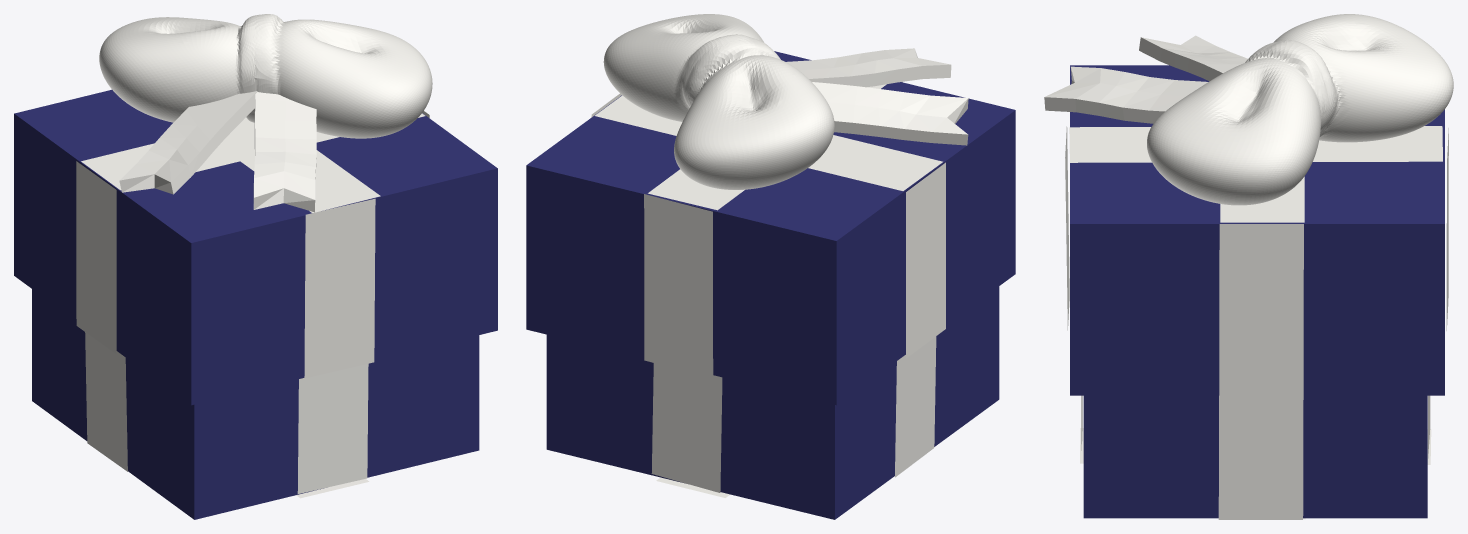
The model's file is decoration_7_2.glb.
The picture shows the model from 3 angles, left to right: view 1: azimuth 30°, elevation 25°; view 2: azimuth 150°, elevation 25°; view 3: azimuth 270°, elevation 25°; orthographic projection. The views are drawn at different scales.
Visible parts, largest first — view 1: Box, Sphere 2, Box 1, Plane; view 2: Box, Box 1, Plane, Sphere 2; view 3: Box, Sphere 2, Plane, Box 1.
Part boxes in pixels (left/top/right/bottom): Box: left=14, top=89, right=497, bottom=405; Sphere 2: left=99, top=14, right=432, bottom=212; Box 1: left=32, top=289, right=479, bottom=519; Plane: left=76, top=111, right=429, bottom=498; Box: left=526, top=51, right=1015, bottom=405; Box 1: left=546, top=286, right=999, bottom=519; Plane: left=591, top=82, right=945, bottom=497; Sphere 2: left=603, top=14, right=968, bottom=189; Box: left=1070, top=65, right=1444, bottom=395; Sphere 2: left=1044, top=14, right=1453, bottom=205; Plane: left=1065, top=126, right=1448, bottom=519; Box 1: left=1083, top=395, right=1427, bottom=518.
Size of the model in its own units: 0.2836 by 0.3255 by 0.2912.
